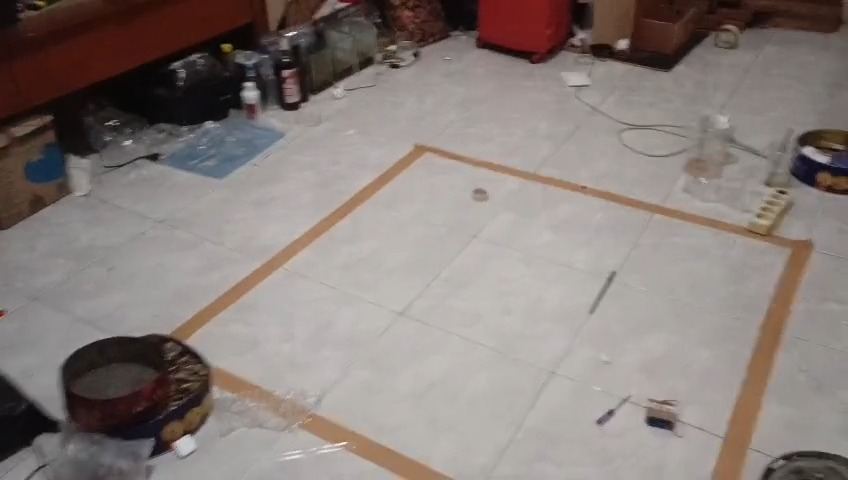floor marking: (173, 145, 813, 479), (302, 414, 448, 478), (214, 369, 285, 405)
